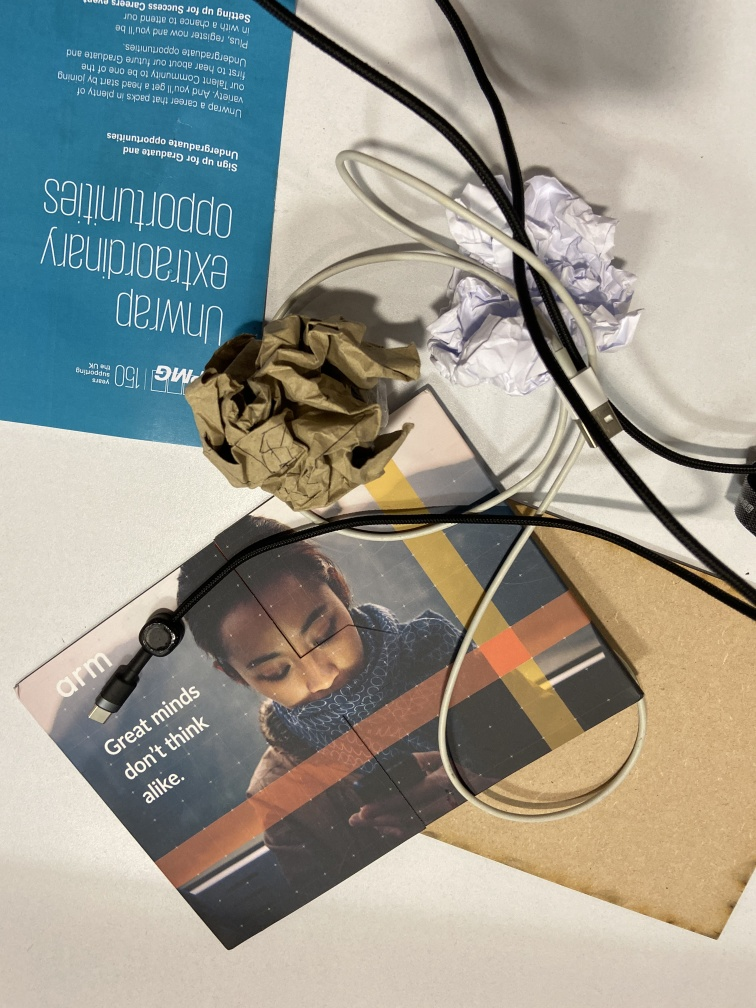paper_brown: (189, 312, 427, 514)
paper_white: (428, 165, 639, 403)
